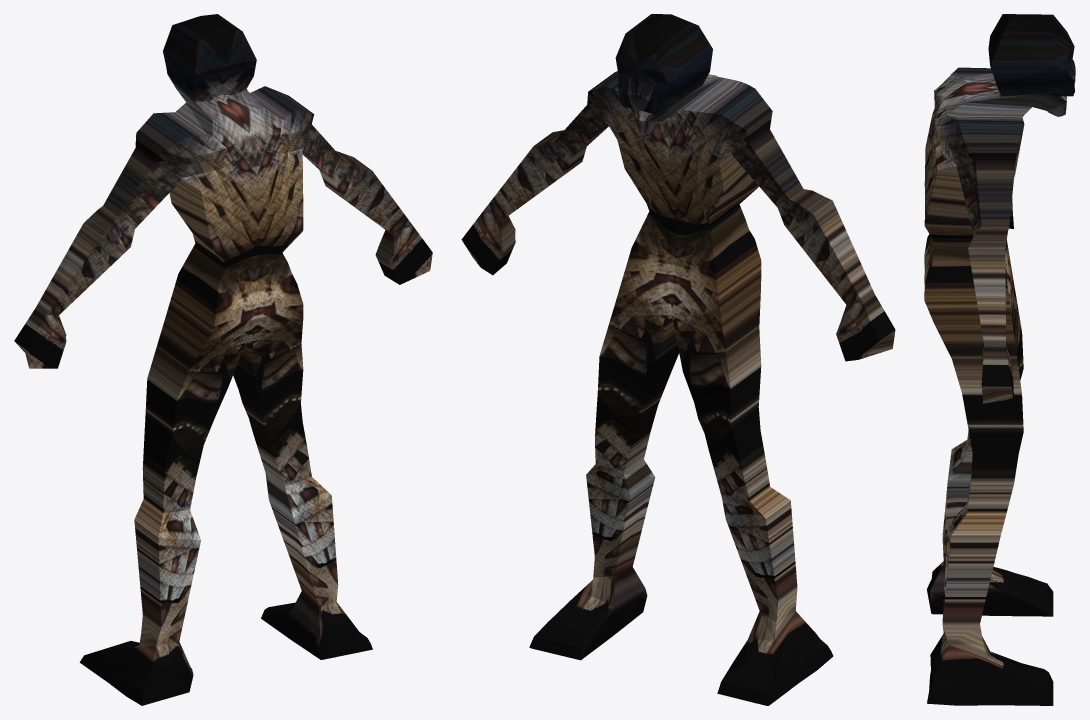
The model's file is mummy.dae.
3 renders of one model, left to right at view 1: azimuth 30°, elevation 25°; view 2: azimuth 150°, elevation 25°; view 3: azimuth 270°, elevation 25°, orthographic. The views are drawn at different scales.
Visible parts, largest first — view 1: mummy; view 2: mummy; view 3: mummy.
Boxes of the visible parts, x1=… form: mummy: x1=14, y1=14, x2=432, y2=705; mummy: x1=461, y1=14, x2=895, y2=705; mummy: x1=924, y1=14, x2=1075, y2=705.
Size of the model in its own units: 6.8 by 10.02 by 2.18.
